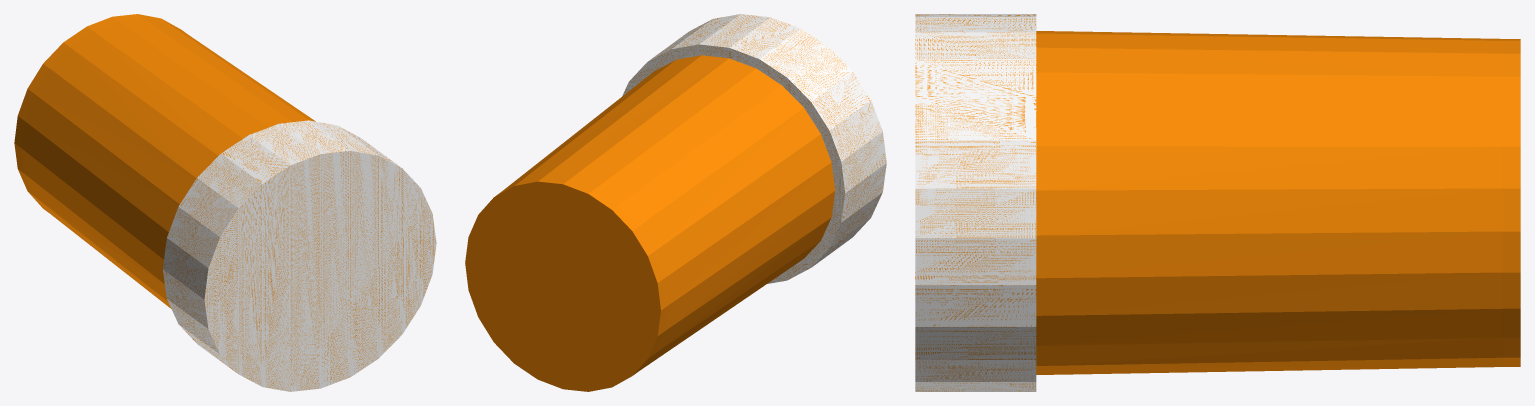
3 renders of one model, left to right at view 1: azimuth 30°, elevation 25°; view 2: azimuth 150°, elevation 25°; view 3: azimuth 270°, elevation 25°, orthographic. The views are drawn at different scales.
Parts seen in each view (by area): view 1: pills; view 2: pills; view 3: pills.
Part boxes in pixels (<box>): pills: <box>14,14,436,391</box>; pills: <box>465,14,886,391</box>; pills: <box>915,14,1520,391</box>.
Size of the model in its own units: 448 by 433 by 696.
